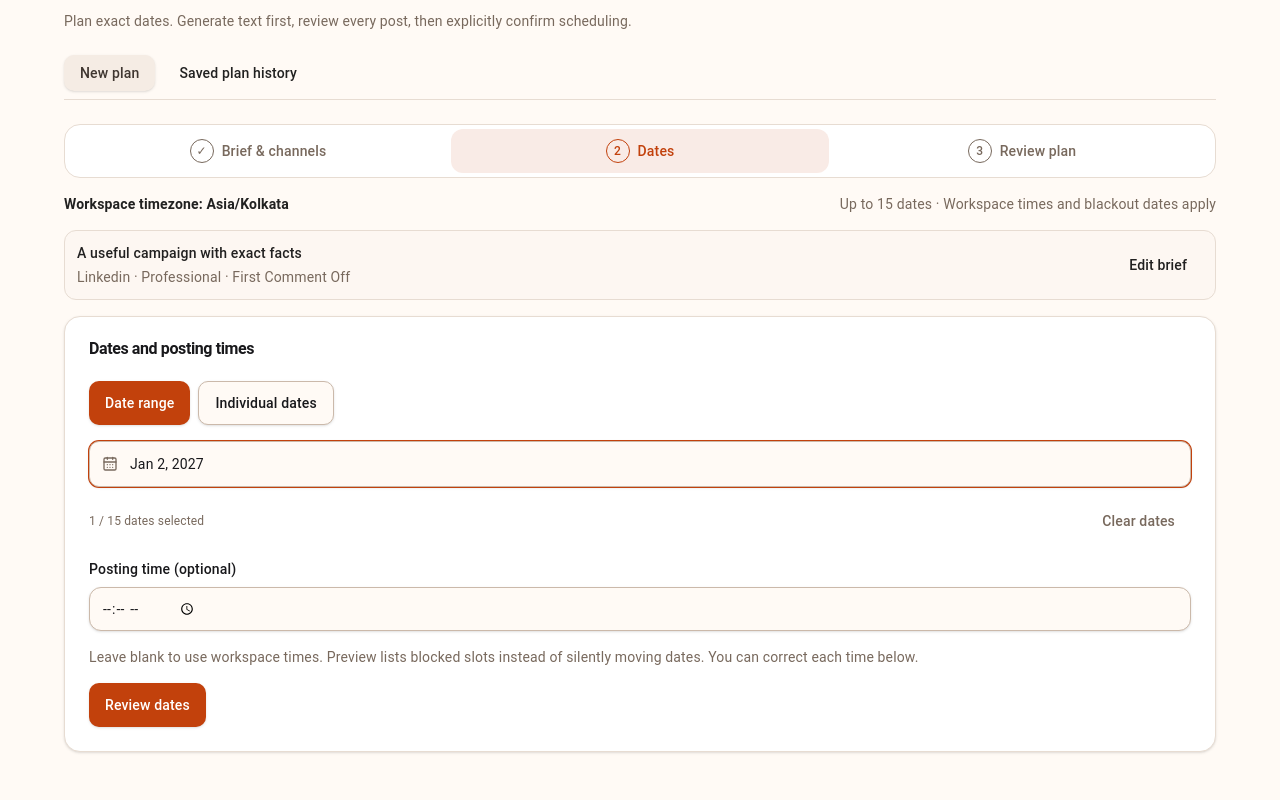
Test: planner exact setup › groups same-day channels without losing per-slot exclusions or DST corrections
Earlier steps of the test are not shown.
Later steps or results of the test are not shown.
(page scrolled)
Click the button "Review dates" at (147, 705), box x1=89 y1=683 x2=206 y2=727
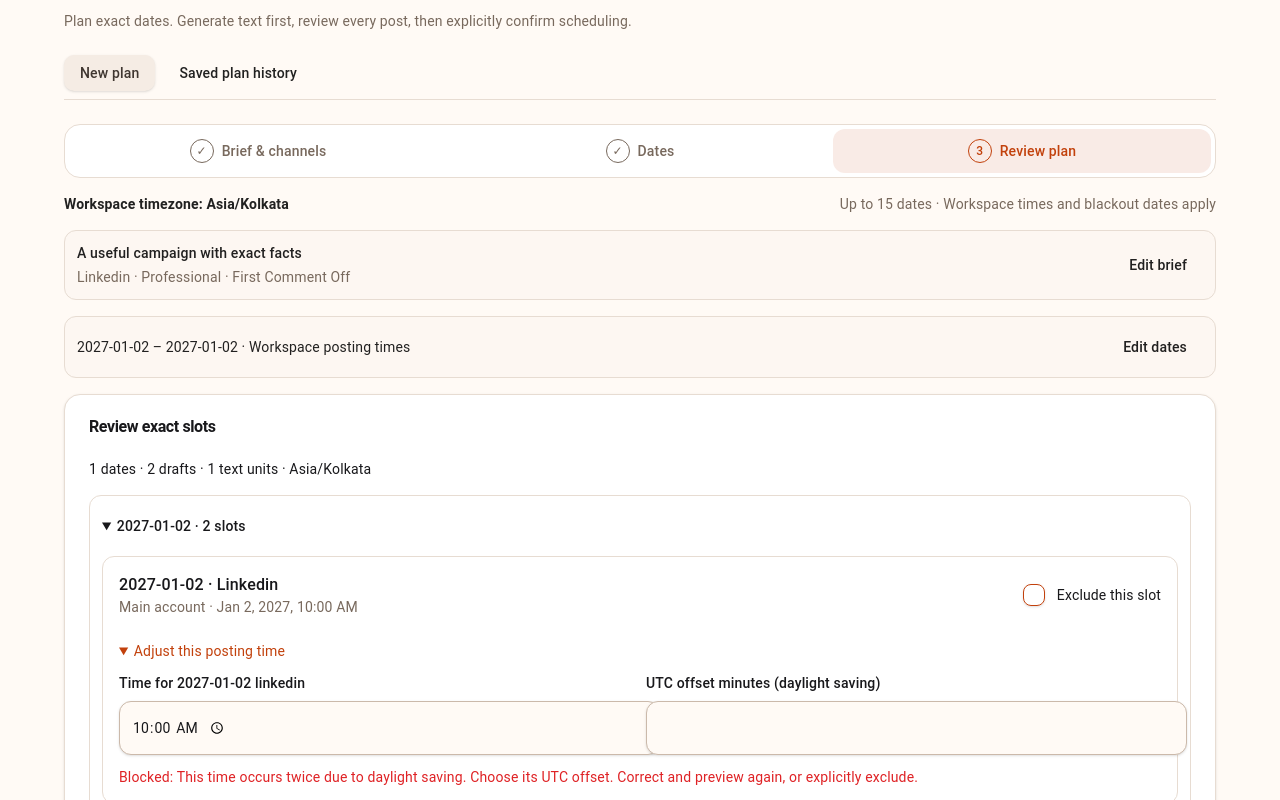
Expected: the heading "2027-01-02 · 2 slots" is shown, x1=117 y1=518 x2=246 y2=534
